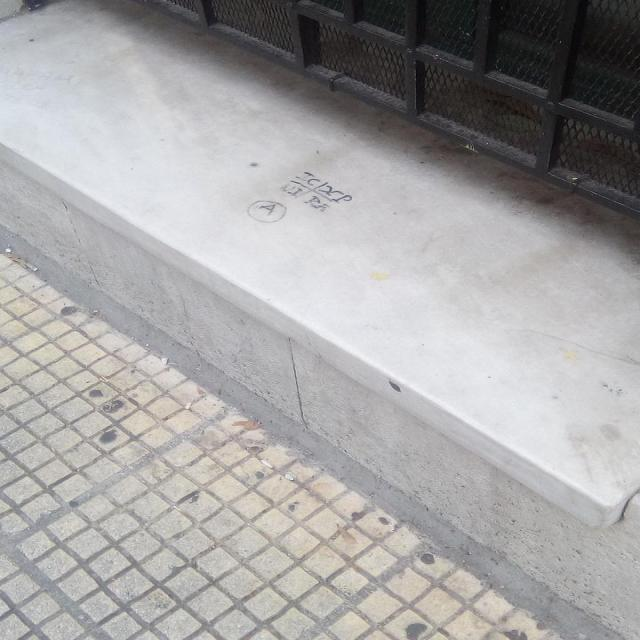nonspitting: (247, 172, 352, 223)
